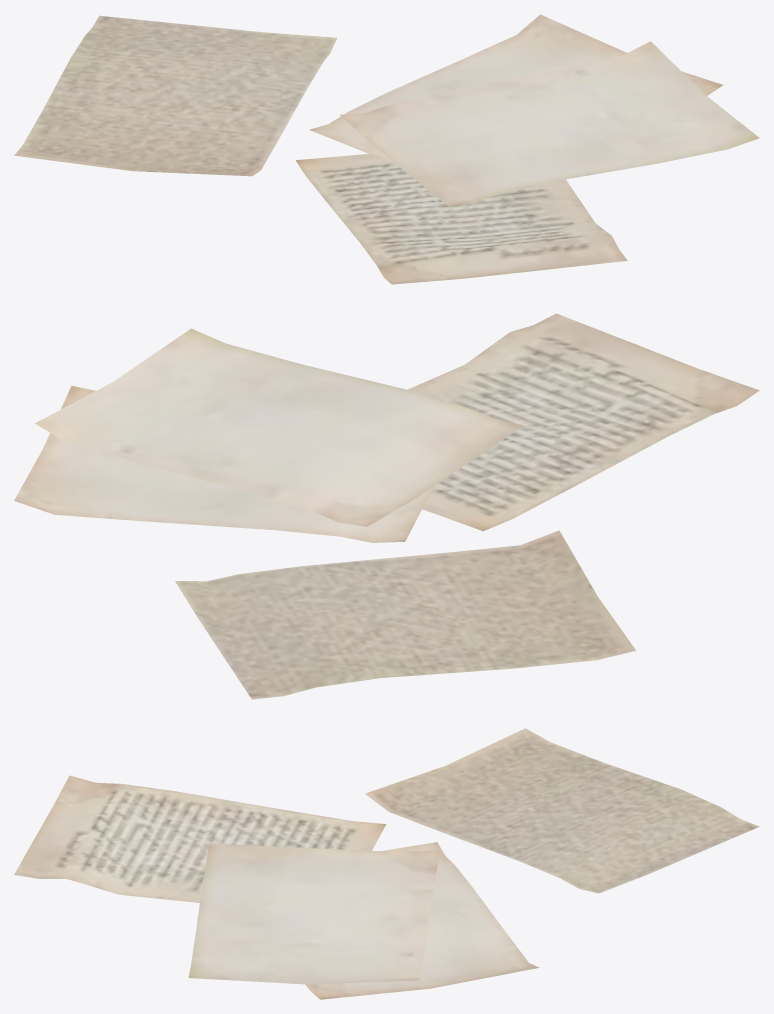
Rendered from SM_papers_floor_02_f7cbe6.glb.
3 views of the same model, one above another, from view 1: azimuth 30°, elevation 25°; view 2: azimuth 150°, elevation 25°; view 3: azimuth 270°, elevation 25° (orthographic). The views are drawn at different scales.
Bounding box in the file's own units: 0.5905 × 0.0195 × 0.6759.
Materials: 1 (1 with a texture image).
